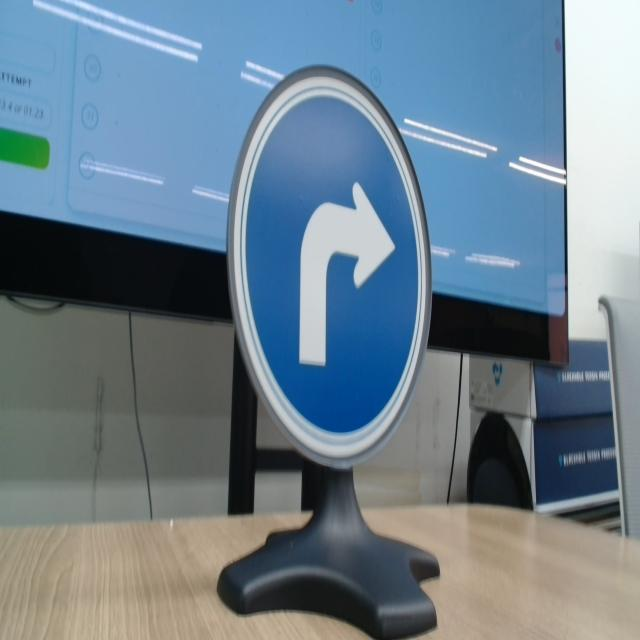right_dierection: (227, 62, 434, 478)
